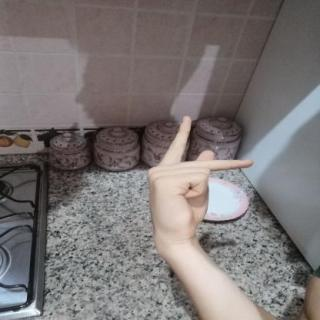DHAA: (135, 110, 259, 248)
